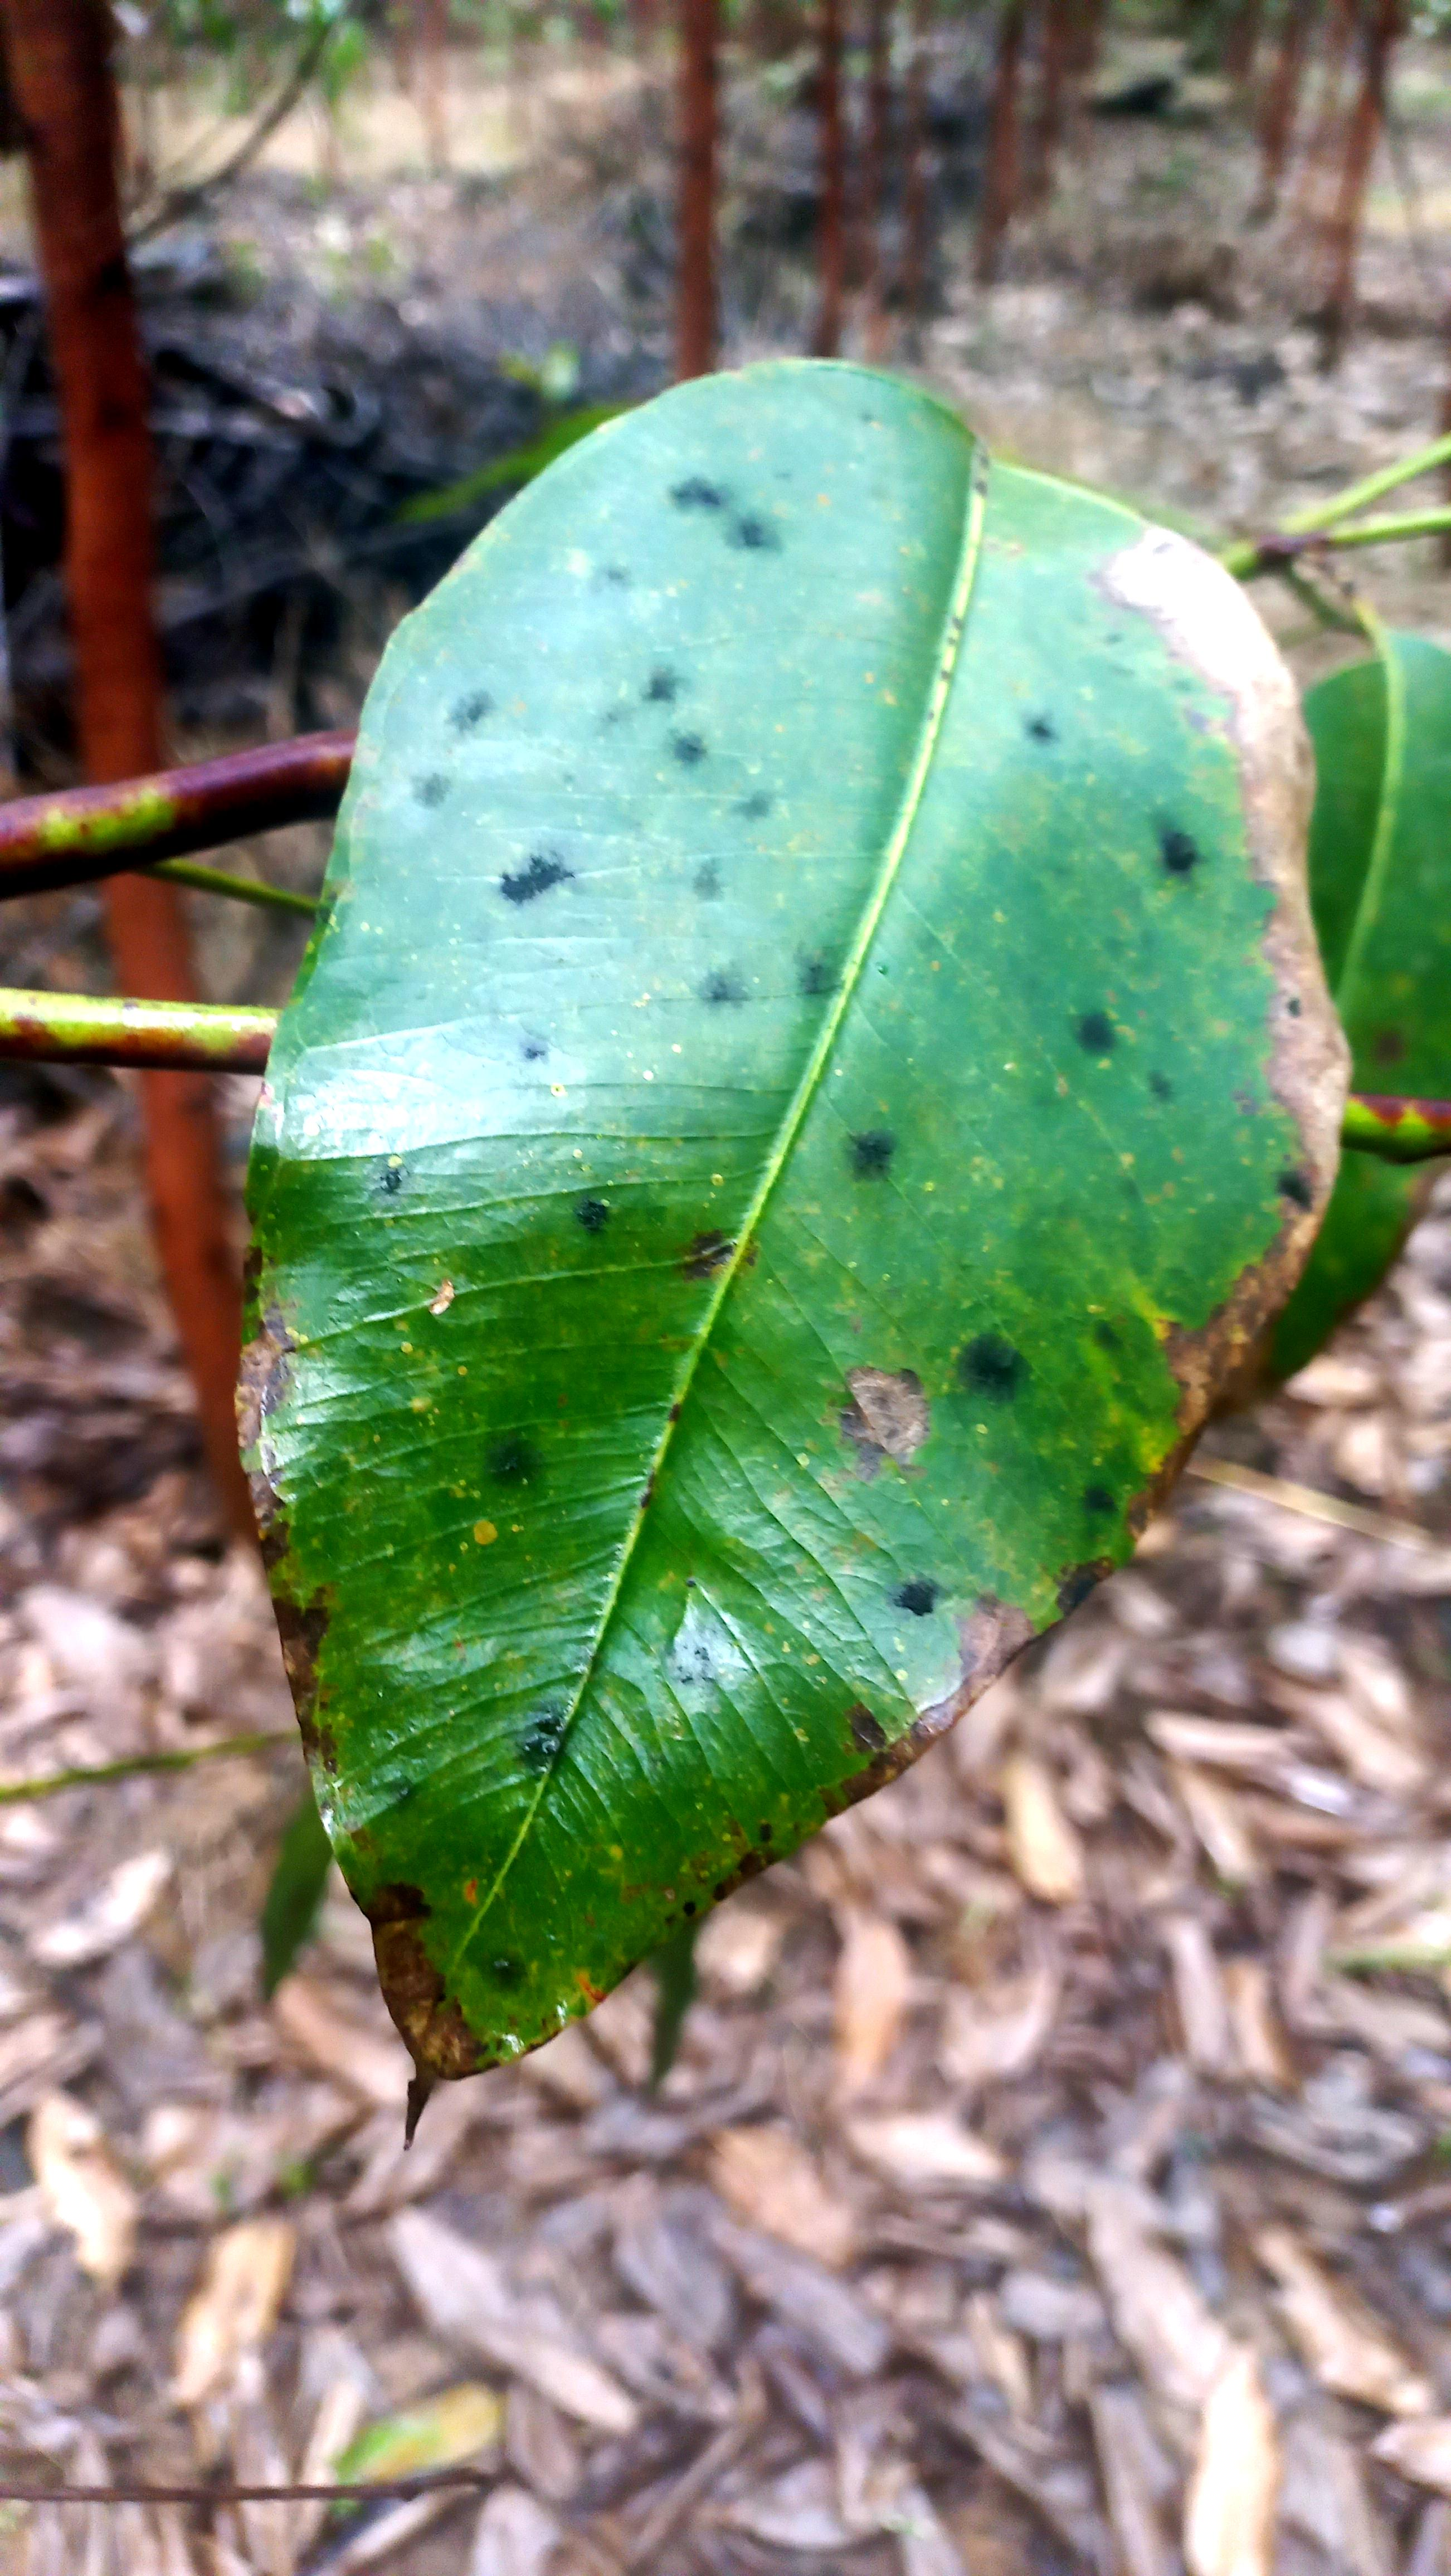Cylindrocladium: (1099, 474, 1370, 1594)
Embun Jelaga: (223, 349, 1078, 2150)
